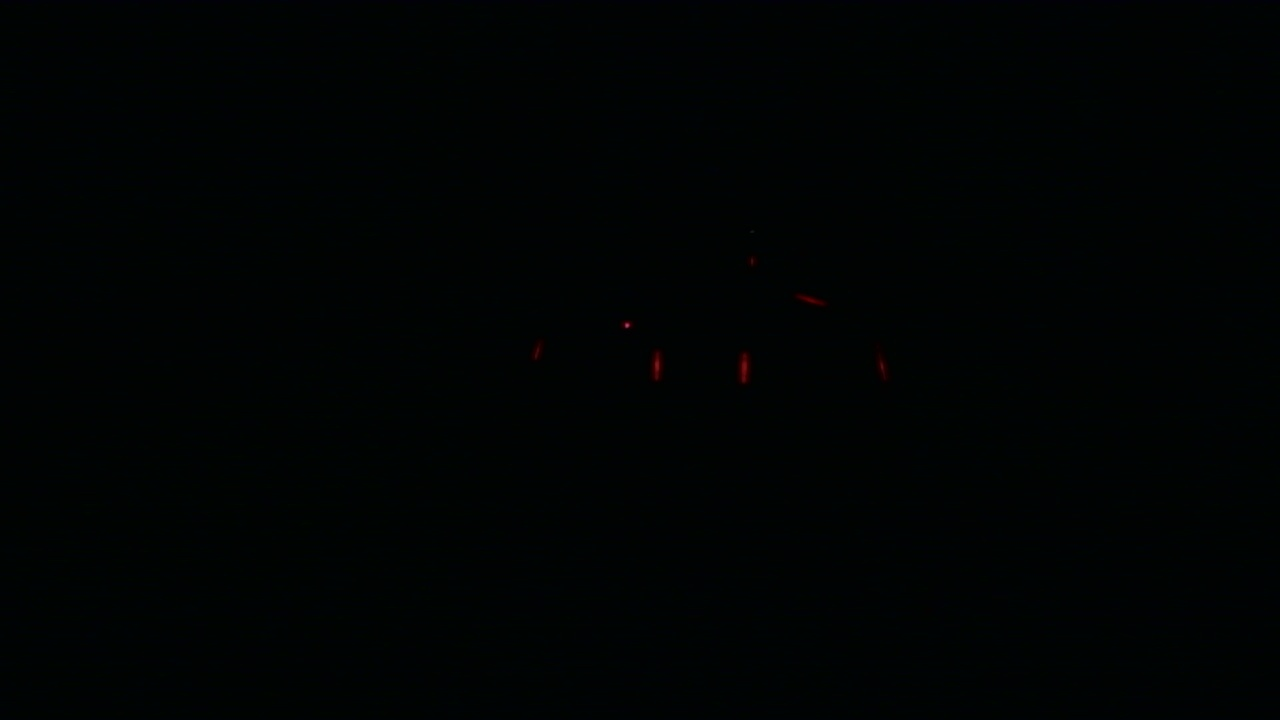lamp: (649, 349, 663, 384), (739, 347, 751, 381)
pair1: (650, 348, 751, 383)
